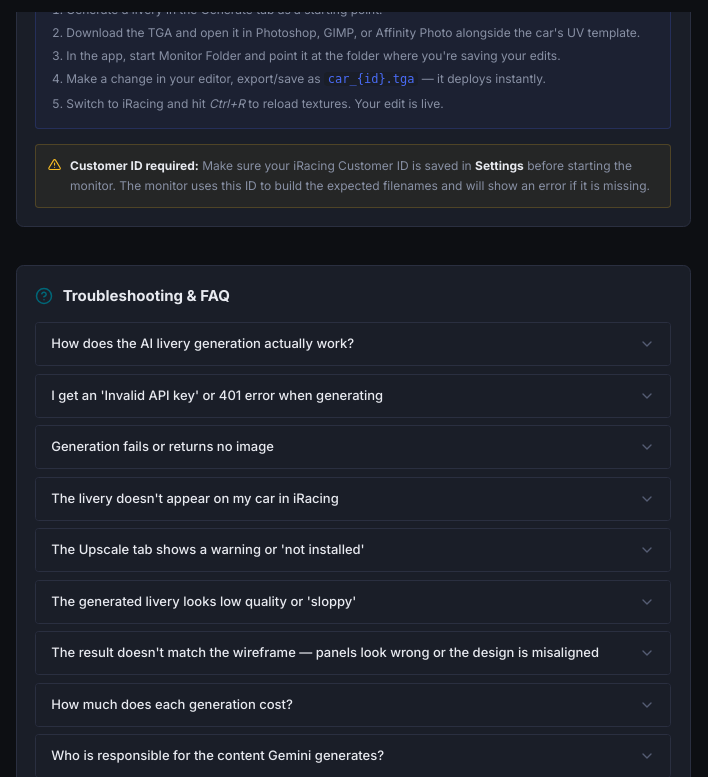
Test: GettingStartedTab component › can independently expand multiple FAQ items
(page scrolled)
Click the button "I get an 'Invalid API key' or 401 error when generating": (353, 396) [36, 375, 670, 417]
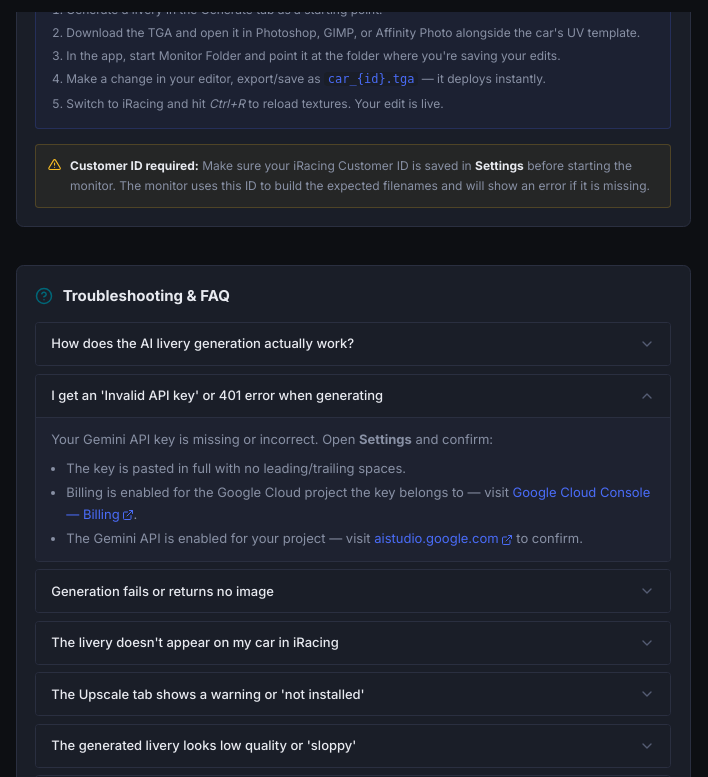
Click the button "The generated livery looks low quality or 'sloppy'": (353, 746) [36, 725, 670, 767]
(page scrolled)
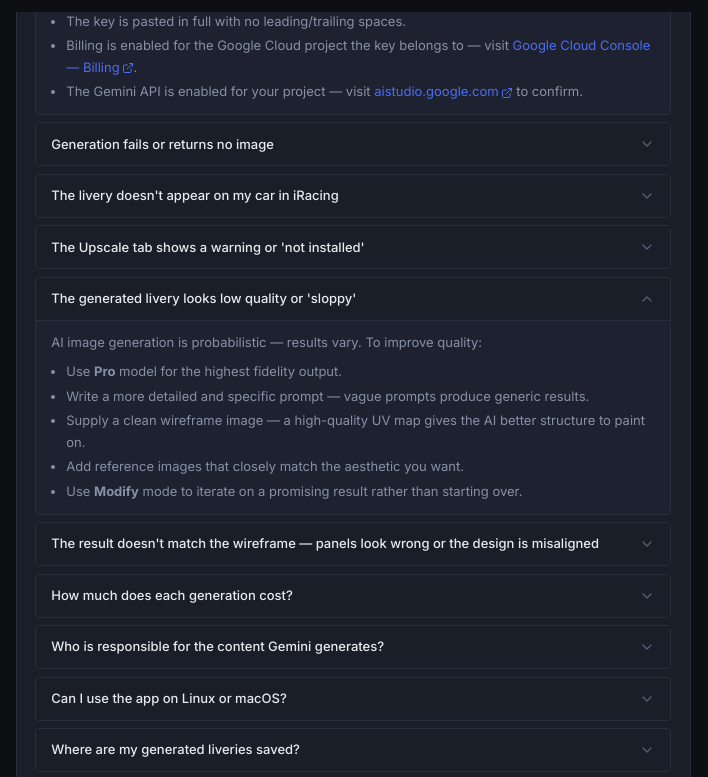
Check: the list item "Billing is enabled" is shown, box [66, 37, 513, 53]
Check: the list item "vague prompts produce generic results" is shown, box [66, 388, 589, 404]
